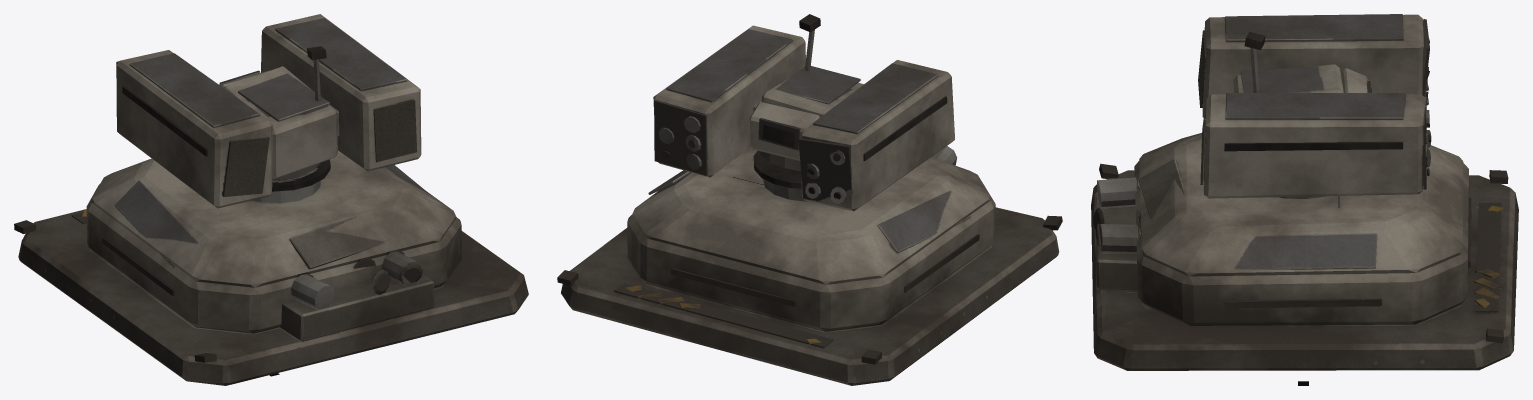
Rendered from ord_vigil_wreck.fbx.
3 renders of one model, left to right at view 1: azimuth 30°, elevation 25°; view 2: azimuth 150°, elevation 25°; view 3: azimuth 270°, elevation 25°, orthographic. The views are drawn at different scales.
Visible parts, largest first — view 1: base_bar, launcher_bar; view 2: base_bar, launcher_bar; view 3: base_bar, launcher_bar.
Boxes of the visible parts, x1,y1,x2,y2 form: base_bar: (14,150,528,385); launcher_bar: (116,14,421,208); base_bar: (557,146,1062,385); launcher_bar: (653,14,954,211); base_bar: (1091,133,1518,370); launcher_bar: (1198,14,1431,198).
Bounding box in the file's own units: 771 × 715 × 771.
2 materials, 2 textured.
